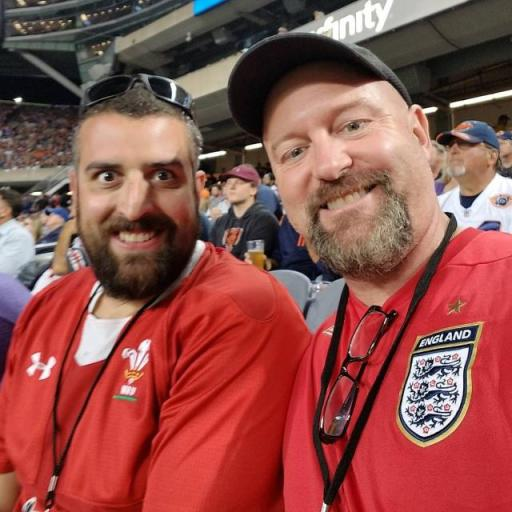Under Armour: (24, 348, 57, 382)
